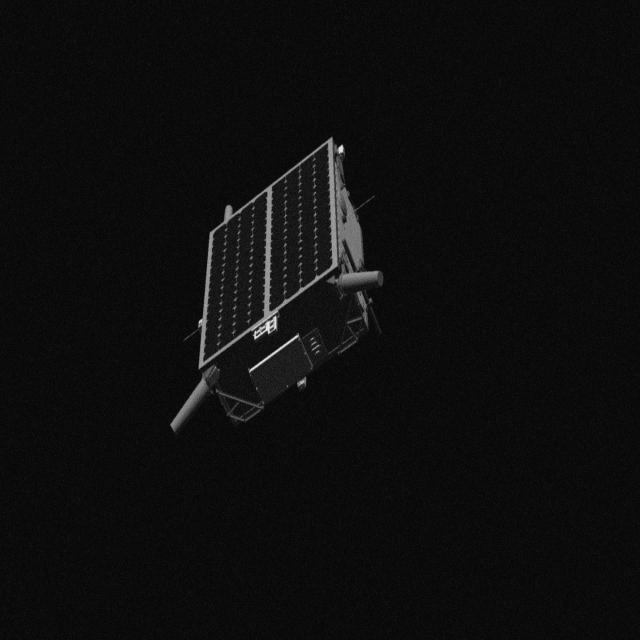satellite: (148, 119, 400, 450)
